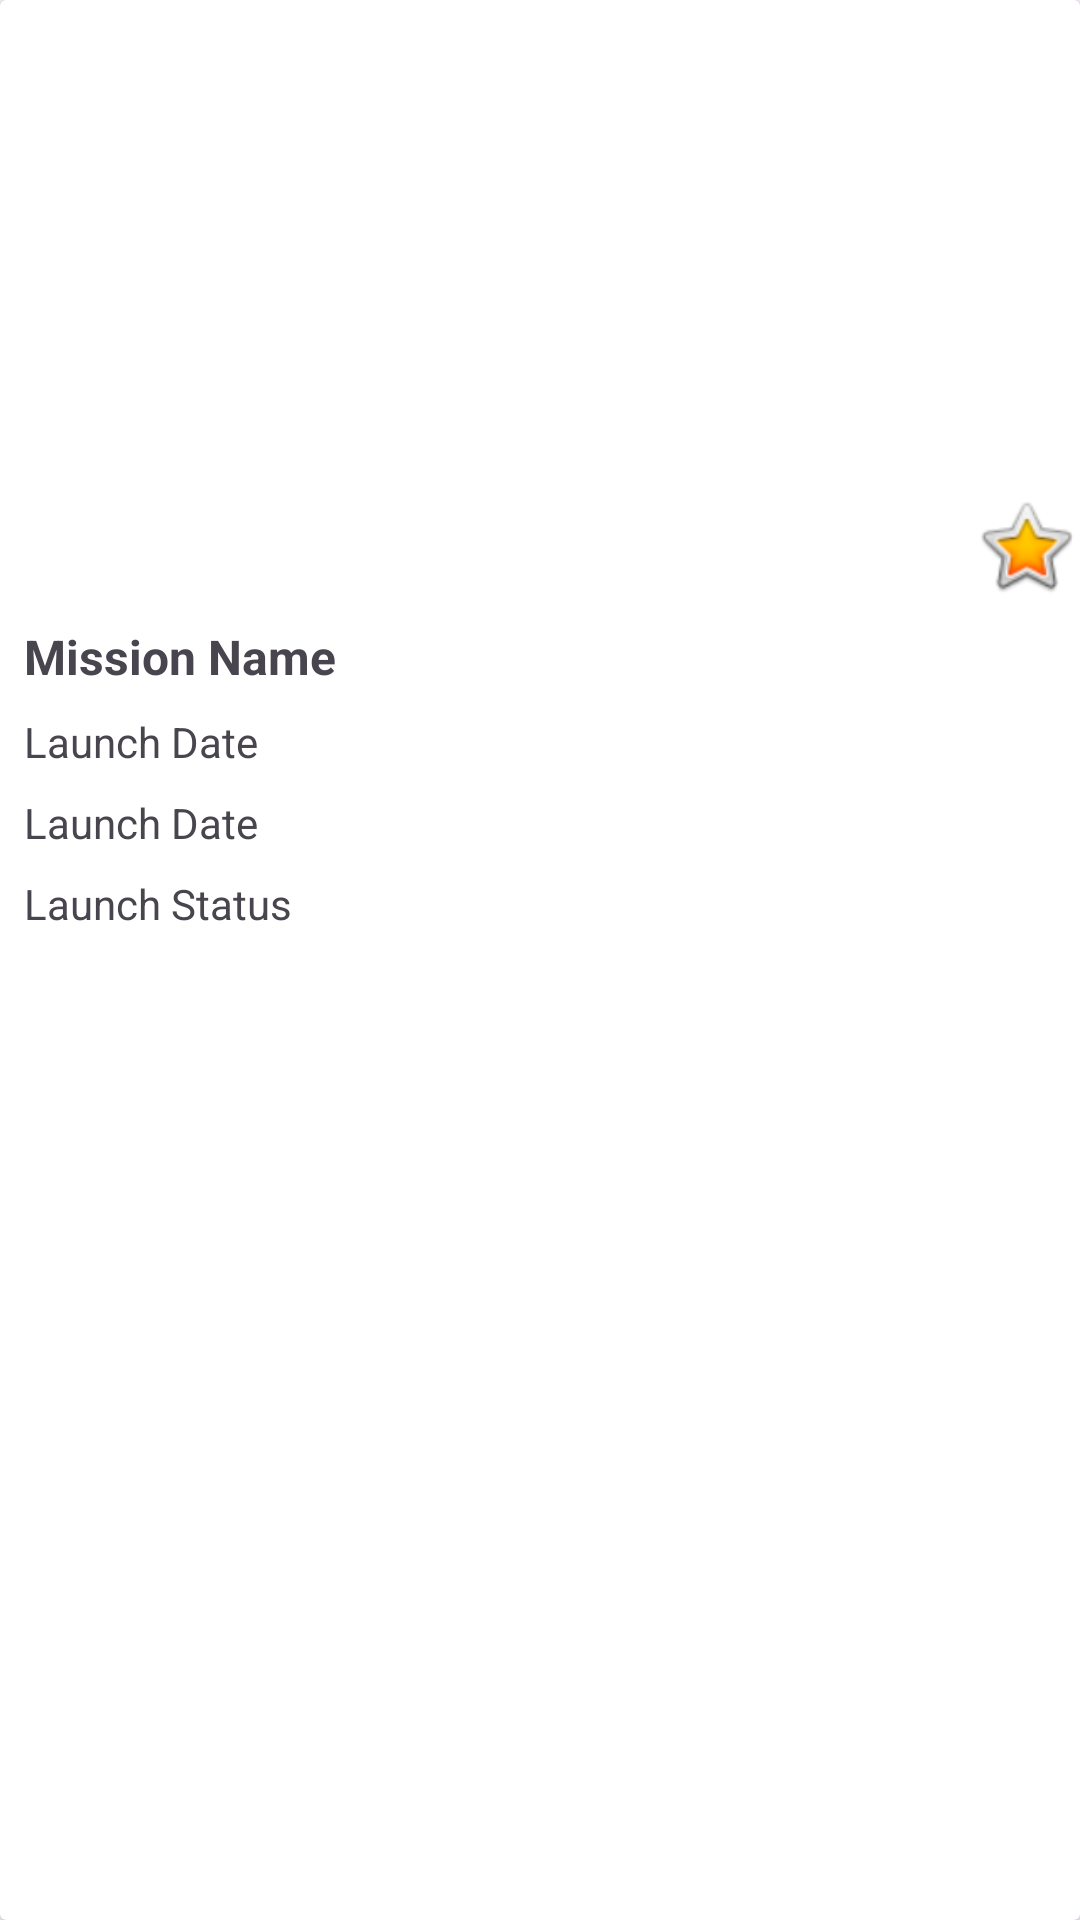

Icon click points for this 1080 × 1920 phone screenshot, format [x,y]:
star on: [1027,547]
